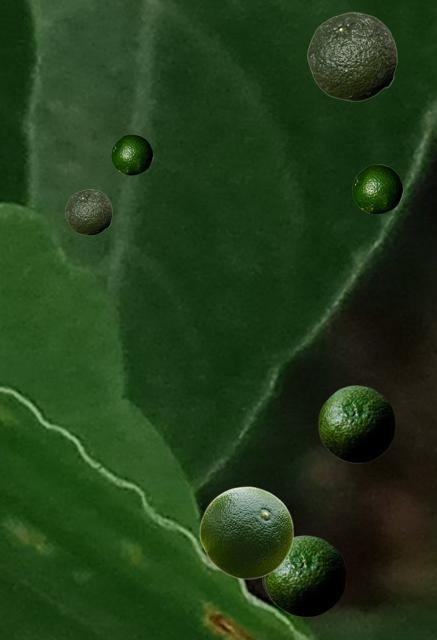calamansi: (199, 486, 293, 578), (307, 12, 396, 100), (264, 535, 345, 616), (318, 385, 394, 462), (352, 164, 402, 213), (65, 189, 111, 234), (111, 134, 152, 174)
